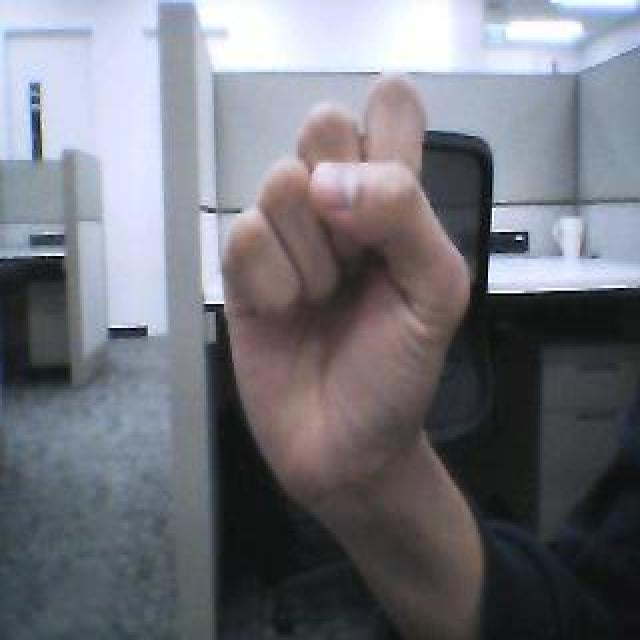fist: (216, 67, 474, 520)
